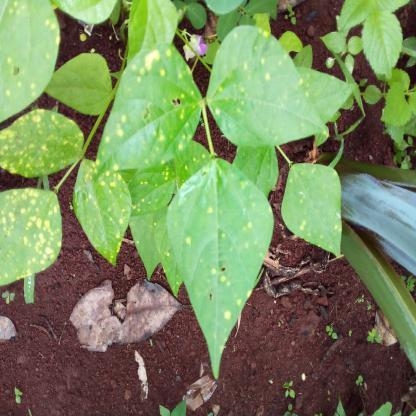Beans_Rust: (167, 159, 270, 378), (206, 28, 329, 148), (97, 44, 198, 166), (0, 0, 59, 120), (122, 142, 212, 220), (74, 157, 127, 268), (283, 162, 340, 260), (0, 190, 60, 283), (0, 110, 81, 177)
